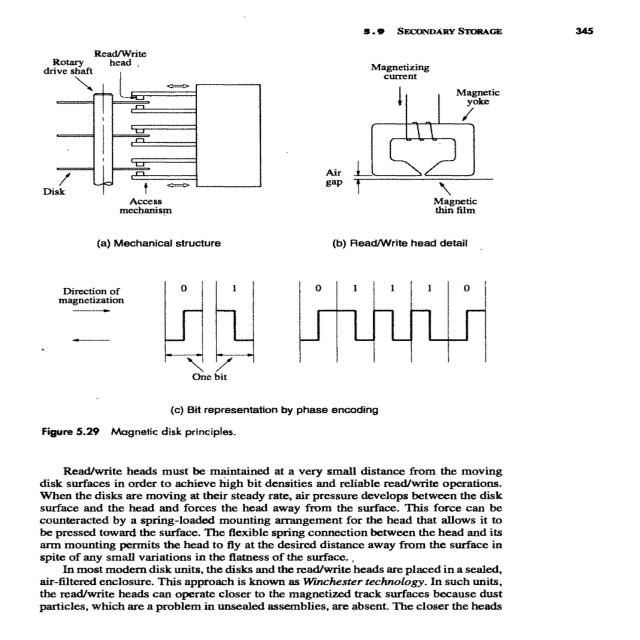diagram: (17, 38, 613, 452)
